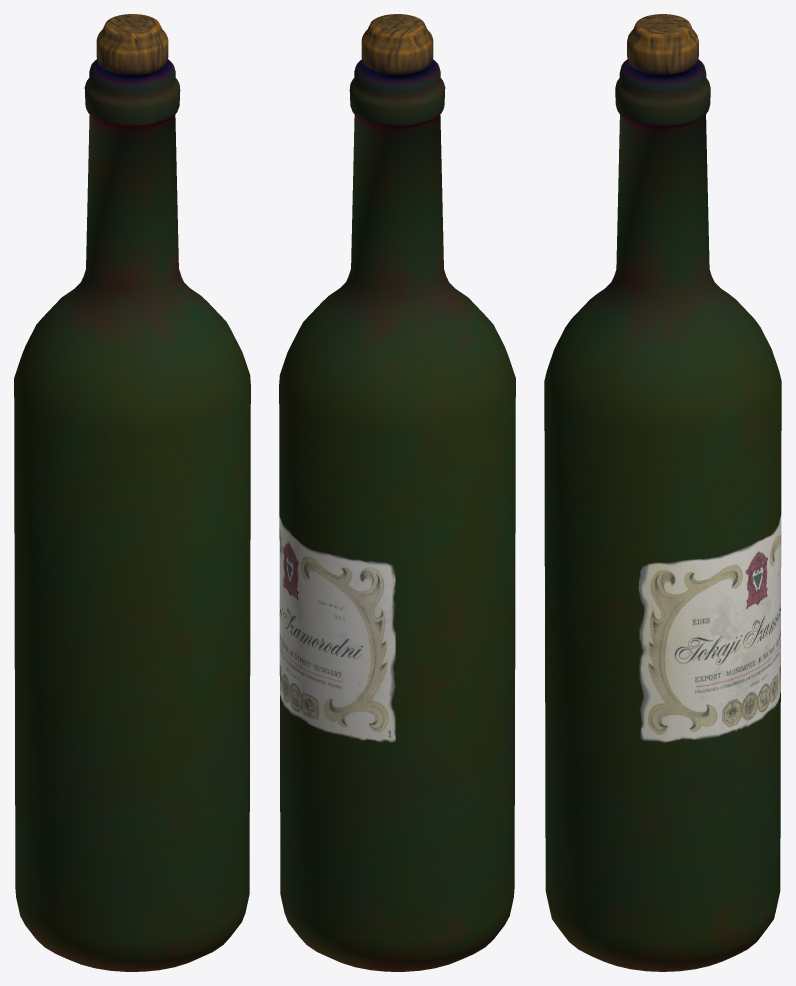
The picture shows the model from 3 angles, left to right: view 1: azimuth 30°, elevation 25°; view 2: azimuth 150°, elevation 25°; view 3: azimuth 270°, elevation 25°; orthographic projection.
Visible parts, largest first — view 1: bottle_low; view 2: bottle_low; view 3: bottle_low.
Part boxes in pixels (x1,y1,x2,y2): bottle_low: [14, 14, 250, 971]; bottle_low: [279, 14, 515, 971]; bottle_low: [544, 14, 781, 971].
Size of the model in its own units: 0.3017 by 1.29 by 0.3017.
1 material, 1 textured.
